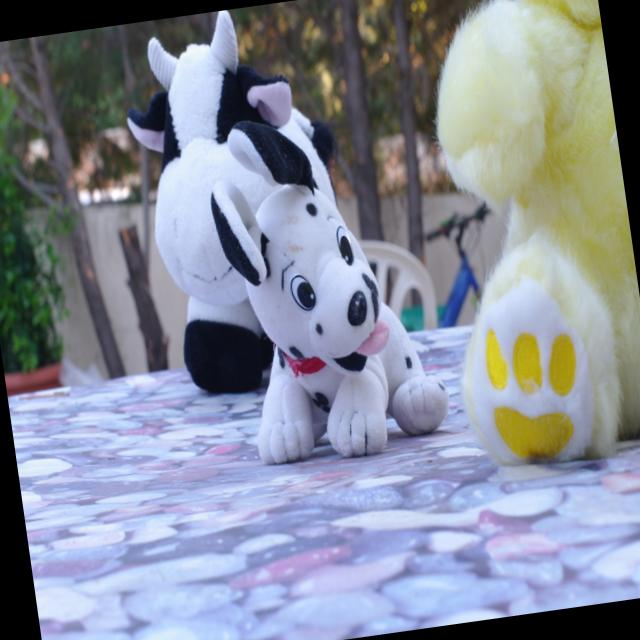Toy: (402, 0, 640, 475), (113, 0, 362, 405), (200, 98, 455, 472)
